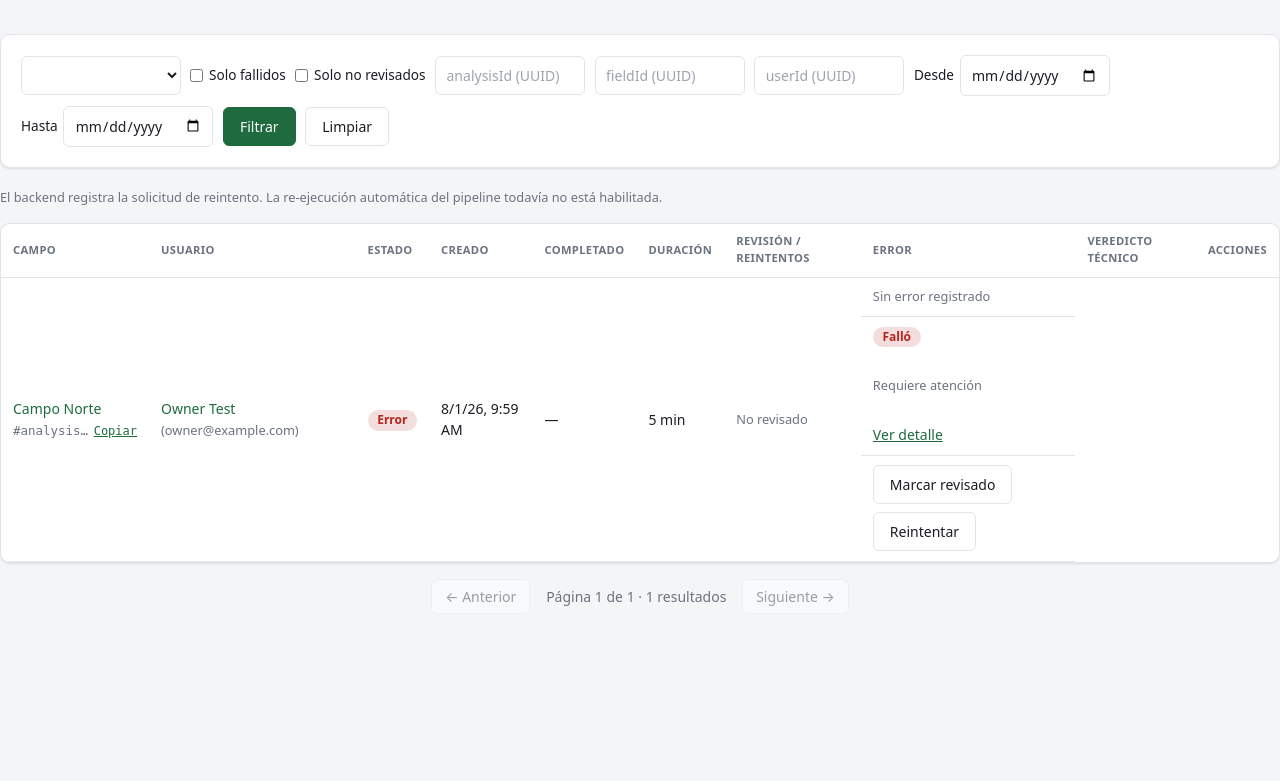
Scenario: AnalysisComponent › Veredicto técnico (PR 13A) › technicalVerdict failed muestra el errorMessage en "Error técnico"
Click the button "Ver detalle" at (908, 435), box [873,424,943,445]
(page scrolled)
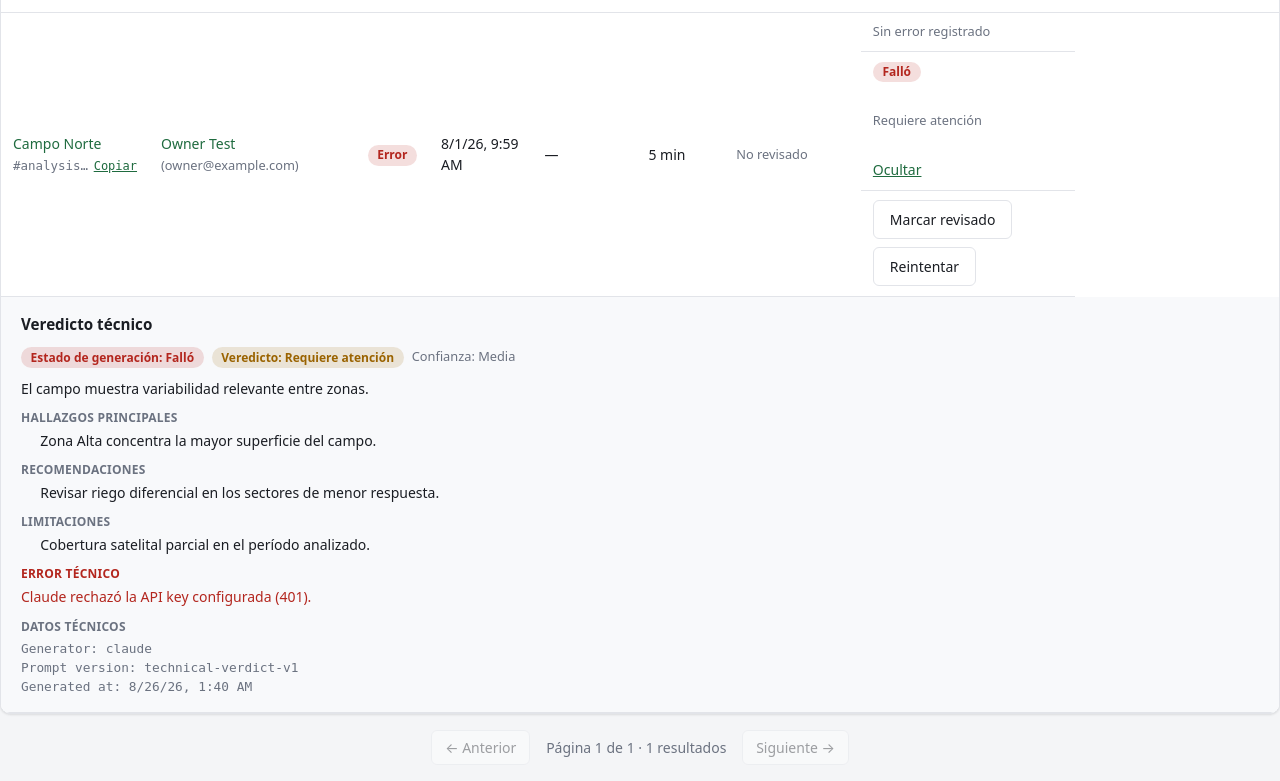
Expected: the element that starts with "Veredicto técnico" shows "Error técnico", [21,566,120,582]
Expected: the element that starts with "Veredicto técnico" shows "Claude rechazó la API key configurada (401).", [21,588,311,606]
